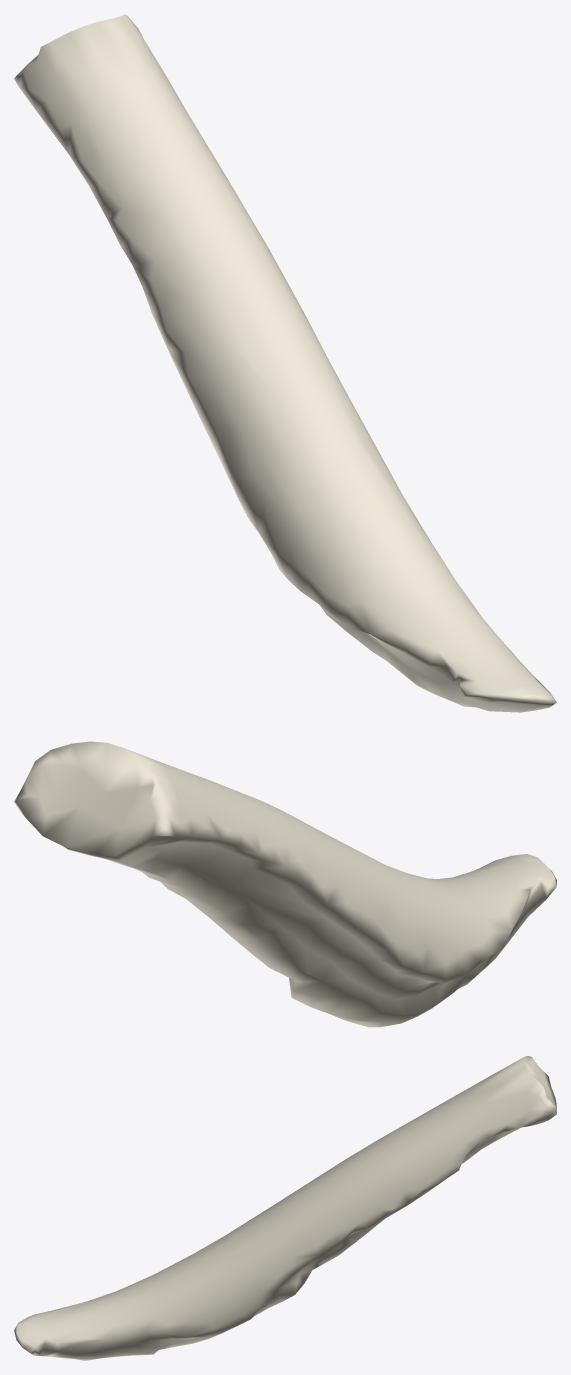
The model's file is fma75753_mm968.glb.
The picture shows the model from 3 angles, top to bottom: view 1: azimuth 30°, elevation 25°; view 2: azimuth 150°, elevation 25°; view 3: azimuth 270°, elevation 25°; orthographic projection. The views are drawn at different scales.
Parts seen in each view (by area): view 1: FMA75753_MM968; view 2: FMA75753_MM968; view 3: FMA75753_MM968.
Part boxes in pixels (x1,y1,x2,y2): FMA75753_MM968: (14,14,556,712); FMA75753_MM968: (14,741,556,1027); FMA75753_MM968: (14,1056,556,1360).
Size of the model in its own units: 0.00637 by 0.0183 by 0.0314.
